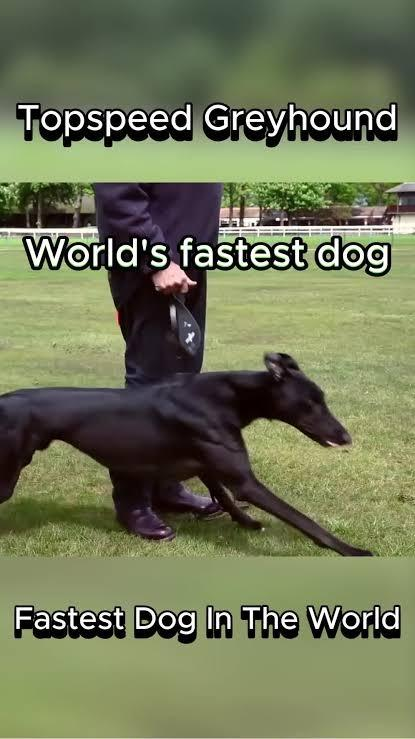adult_dog: (0, 353, 374, 558)
non-dog: (89, 182, 224, 540)
